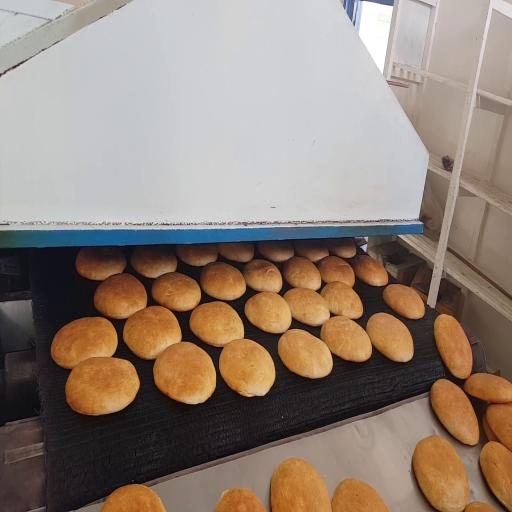bread: (66, 357, 139, 415), (413, 436, 469, 511), (154, 342, 216, 404), (51, 317, 117, 369), (430, 379, 479, 445), (219, 339, 275, 396), (271, 458, 331, 511), (123, 306, 181, 359), (278, 330, 332, 378), (434, 314, 472, 379), (94, 274, 147, 319), (190, 302, 244, 346), (321, 316, 372, 362), (366, 313, 413, 362), (480, 442, 511, 511), (245, 292, 291, 333), (152, 273, 201, 311), (332, 479, 388, 511), (200, 262, 246, 300), (284, 288, 330, 326), (101, 485, 165, 511), (76, 247, 126, 280), (321, 282, 363, 319), (131, 246, 177, 278), (383, 284, 424, 319), (464, 374, 511, 403), (283, 257, 321, 290), (243, 260, 282, 292), (485, 404, 511, 449), (318, 256, 354, 287), (215, 489, 265, 511), (354, 255, 388, 286), (176, 244, 218, 267), (294, 240, 329, 263), (258, 241, 294, 262), (218, 242, 254, 262), (327, 238, 356, 258), (483, 414, 498, 441), (465, 502, 496, 511)
